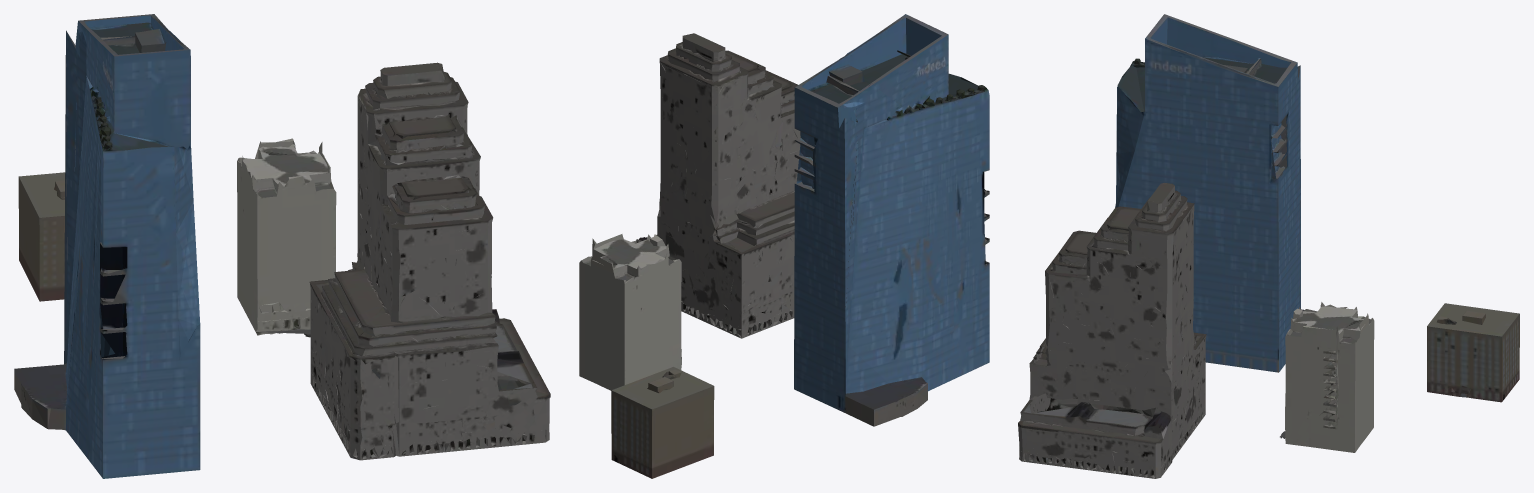
File: t_-2_7.coat.glb
3 renders of one model, left to right at view 1: azimuth 30°, elevation 25°; view 2: azimuth 150°, elevation 25°; view 3: azimuth 270°, elevation 25°, orthographic. The views are drawn at different scales.
Parts seen in each view (by area): view 1: far; view 2: far; view 3: far.
Boxes of the visible parts, x1,y1,x2,y2 form: far: [14, 14, 550, 478]; far: [579, 14, 989, 478]; far: [1018, 14, 1519, 478].
Size of the model in its own units: 177 by 161 by 232.
Materials: 1 (1 with a texture image).
